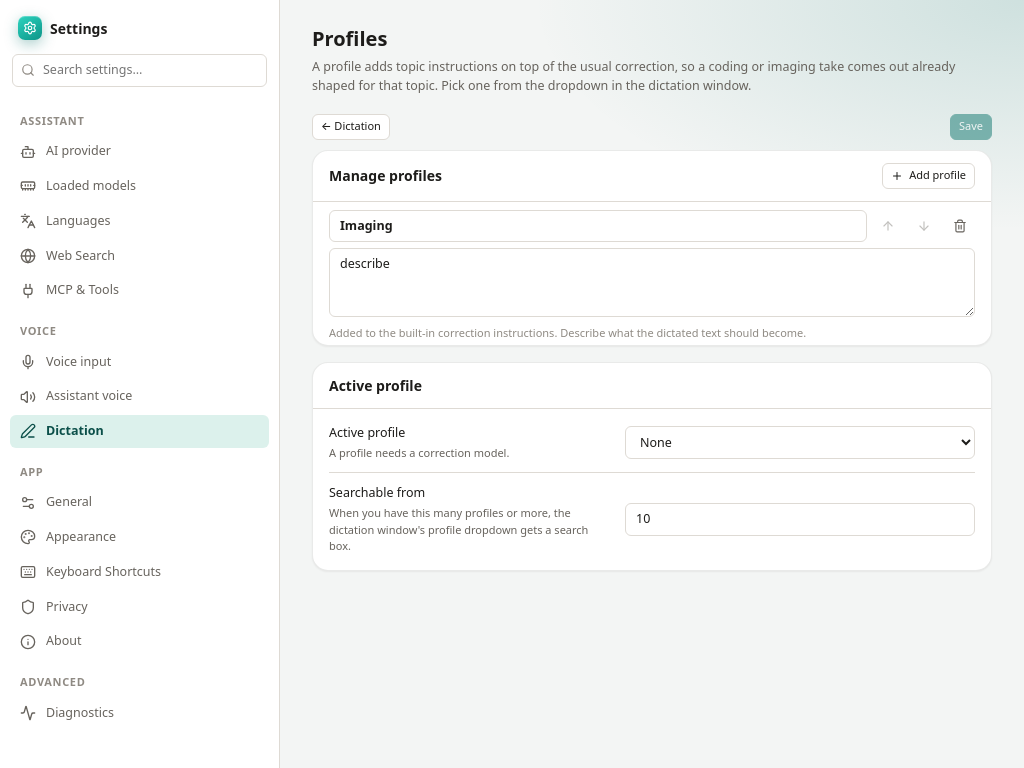
it: dictation profiles › keeps a profile whose title was cleared, and refuses to save it
Clear the field named "Profile title": (598, 226) [329,210,867,242]
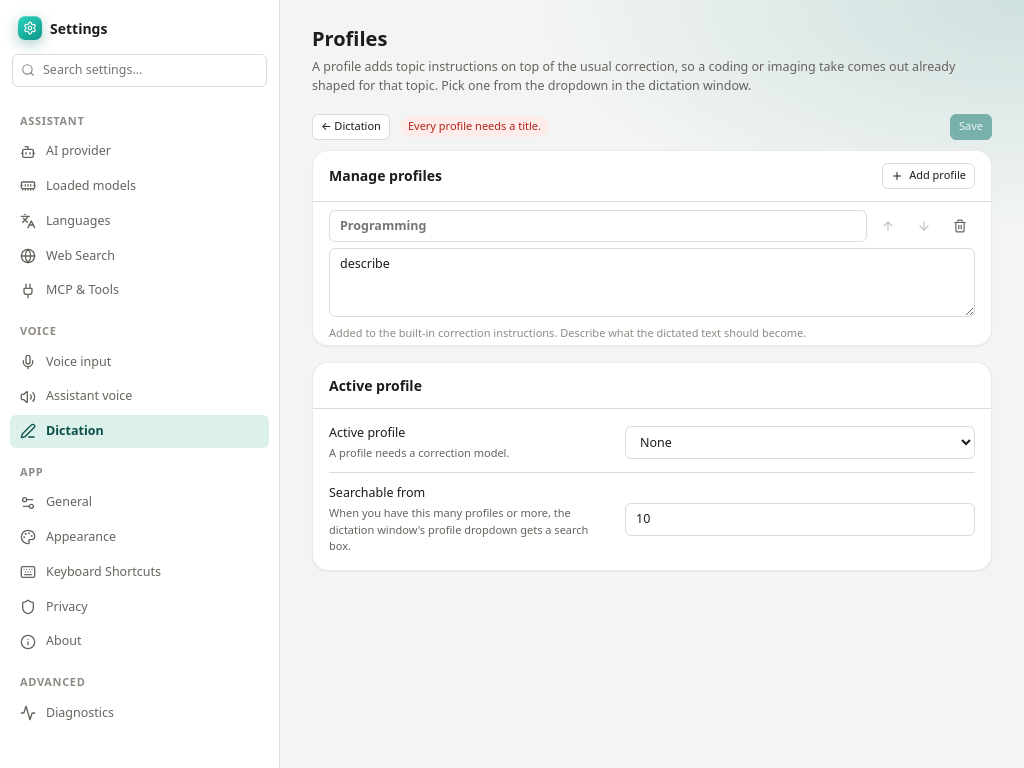
Expected: the number of fields is 1, [329,210,867,242]
Result: the text "Every profile needs a title." is shown at [400,116,549,137]
